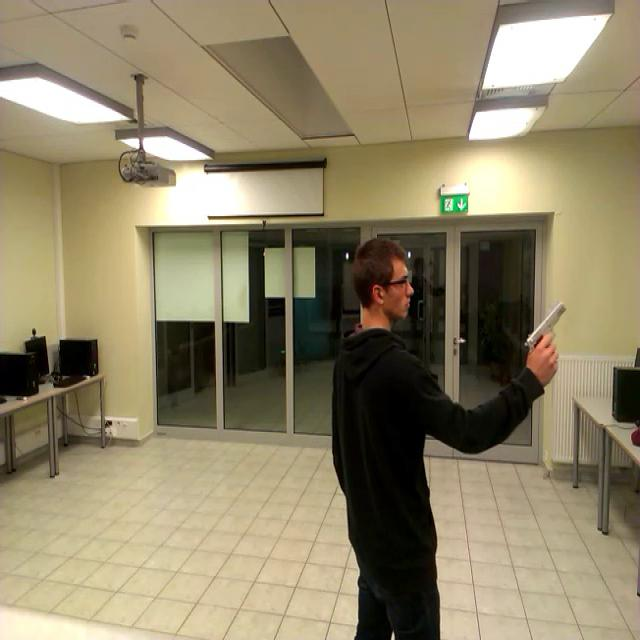handgun: (526, 292, 586, 382)
